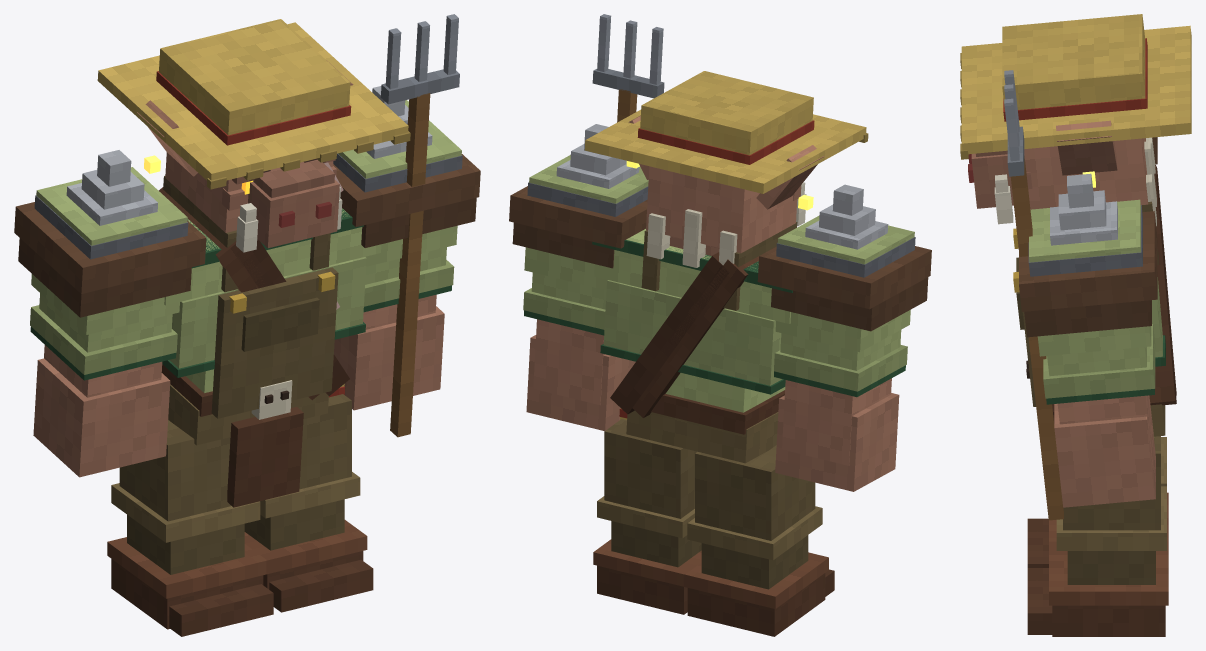
File: orc_fermier_v2.glb
3 renders of one model, left to right at view 1: azimuth 30°, elevation 25°; view 2: azimuth 150°, elevation 25°; view 3: azimuth 270°, elevation 25°, orthographic. The views are drawn at different scales.
Visible parts, largest first — view 1: ArmR, Head, Torso, LegR, ArmL, LegL, HandL; view 2: ArmR, Torso, Head, ArmL, LegR, LegL, HandL; view 3: ArmL, Head, LegL, HandL, Torso, LegR.
Boxes of the visible parts, x1,y1,x2,y2 form: ArmR: [14, 150, 206, 477]; Head: [97, 19, 410, 252]; Torso: [158, 176, 381, 507]; LegR: [107, 420, 273, 636]; ArmL: [333, 86, 480, 410]; LegL: [244, 394, 373, 612]; HandL: [380, 14, 459, 437]; ArmR: [757, 184, 931, 491]; Torso: [592, 209, 797, 463]; Head: [584, 71, 868, 255]; ArmL: [509, 124, 648, 431]; LegR: [683, 445, 834, 636]; LegL: [593, 419, 701, 614]; HandL: [592, 14, 664, 122]; ArmL: [1019, 173, 1157, 507]; Head: [960, 14, 1191, 224]; LegL: [1027, 436, 1168, 636]; HandL: [1004, 70, 1063, 520]; Torso: [1013, 137, 1176, 436]; LegR: [1027, 437, 1168, 567].
Size of the model in its own units: 1.44 by 1.95 by 0.7175.
43 materials, 43 textured.
